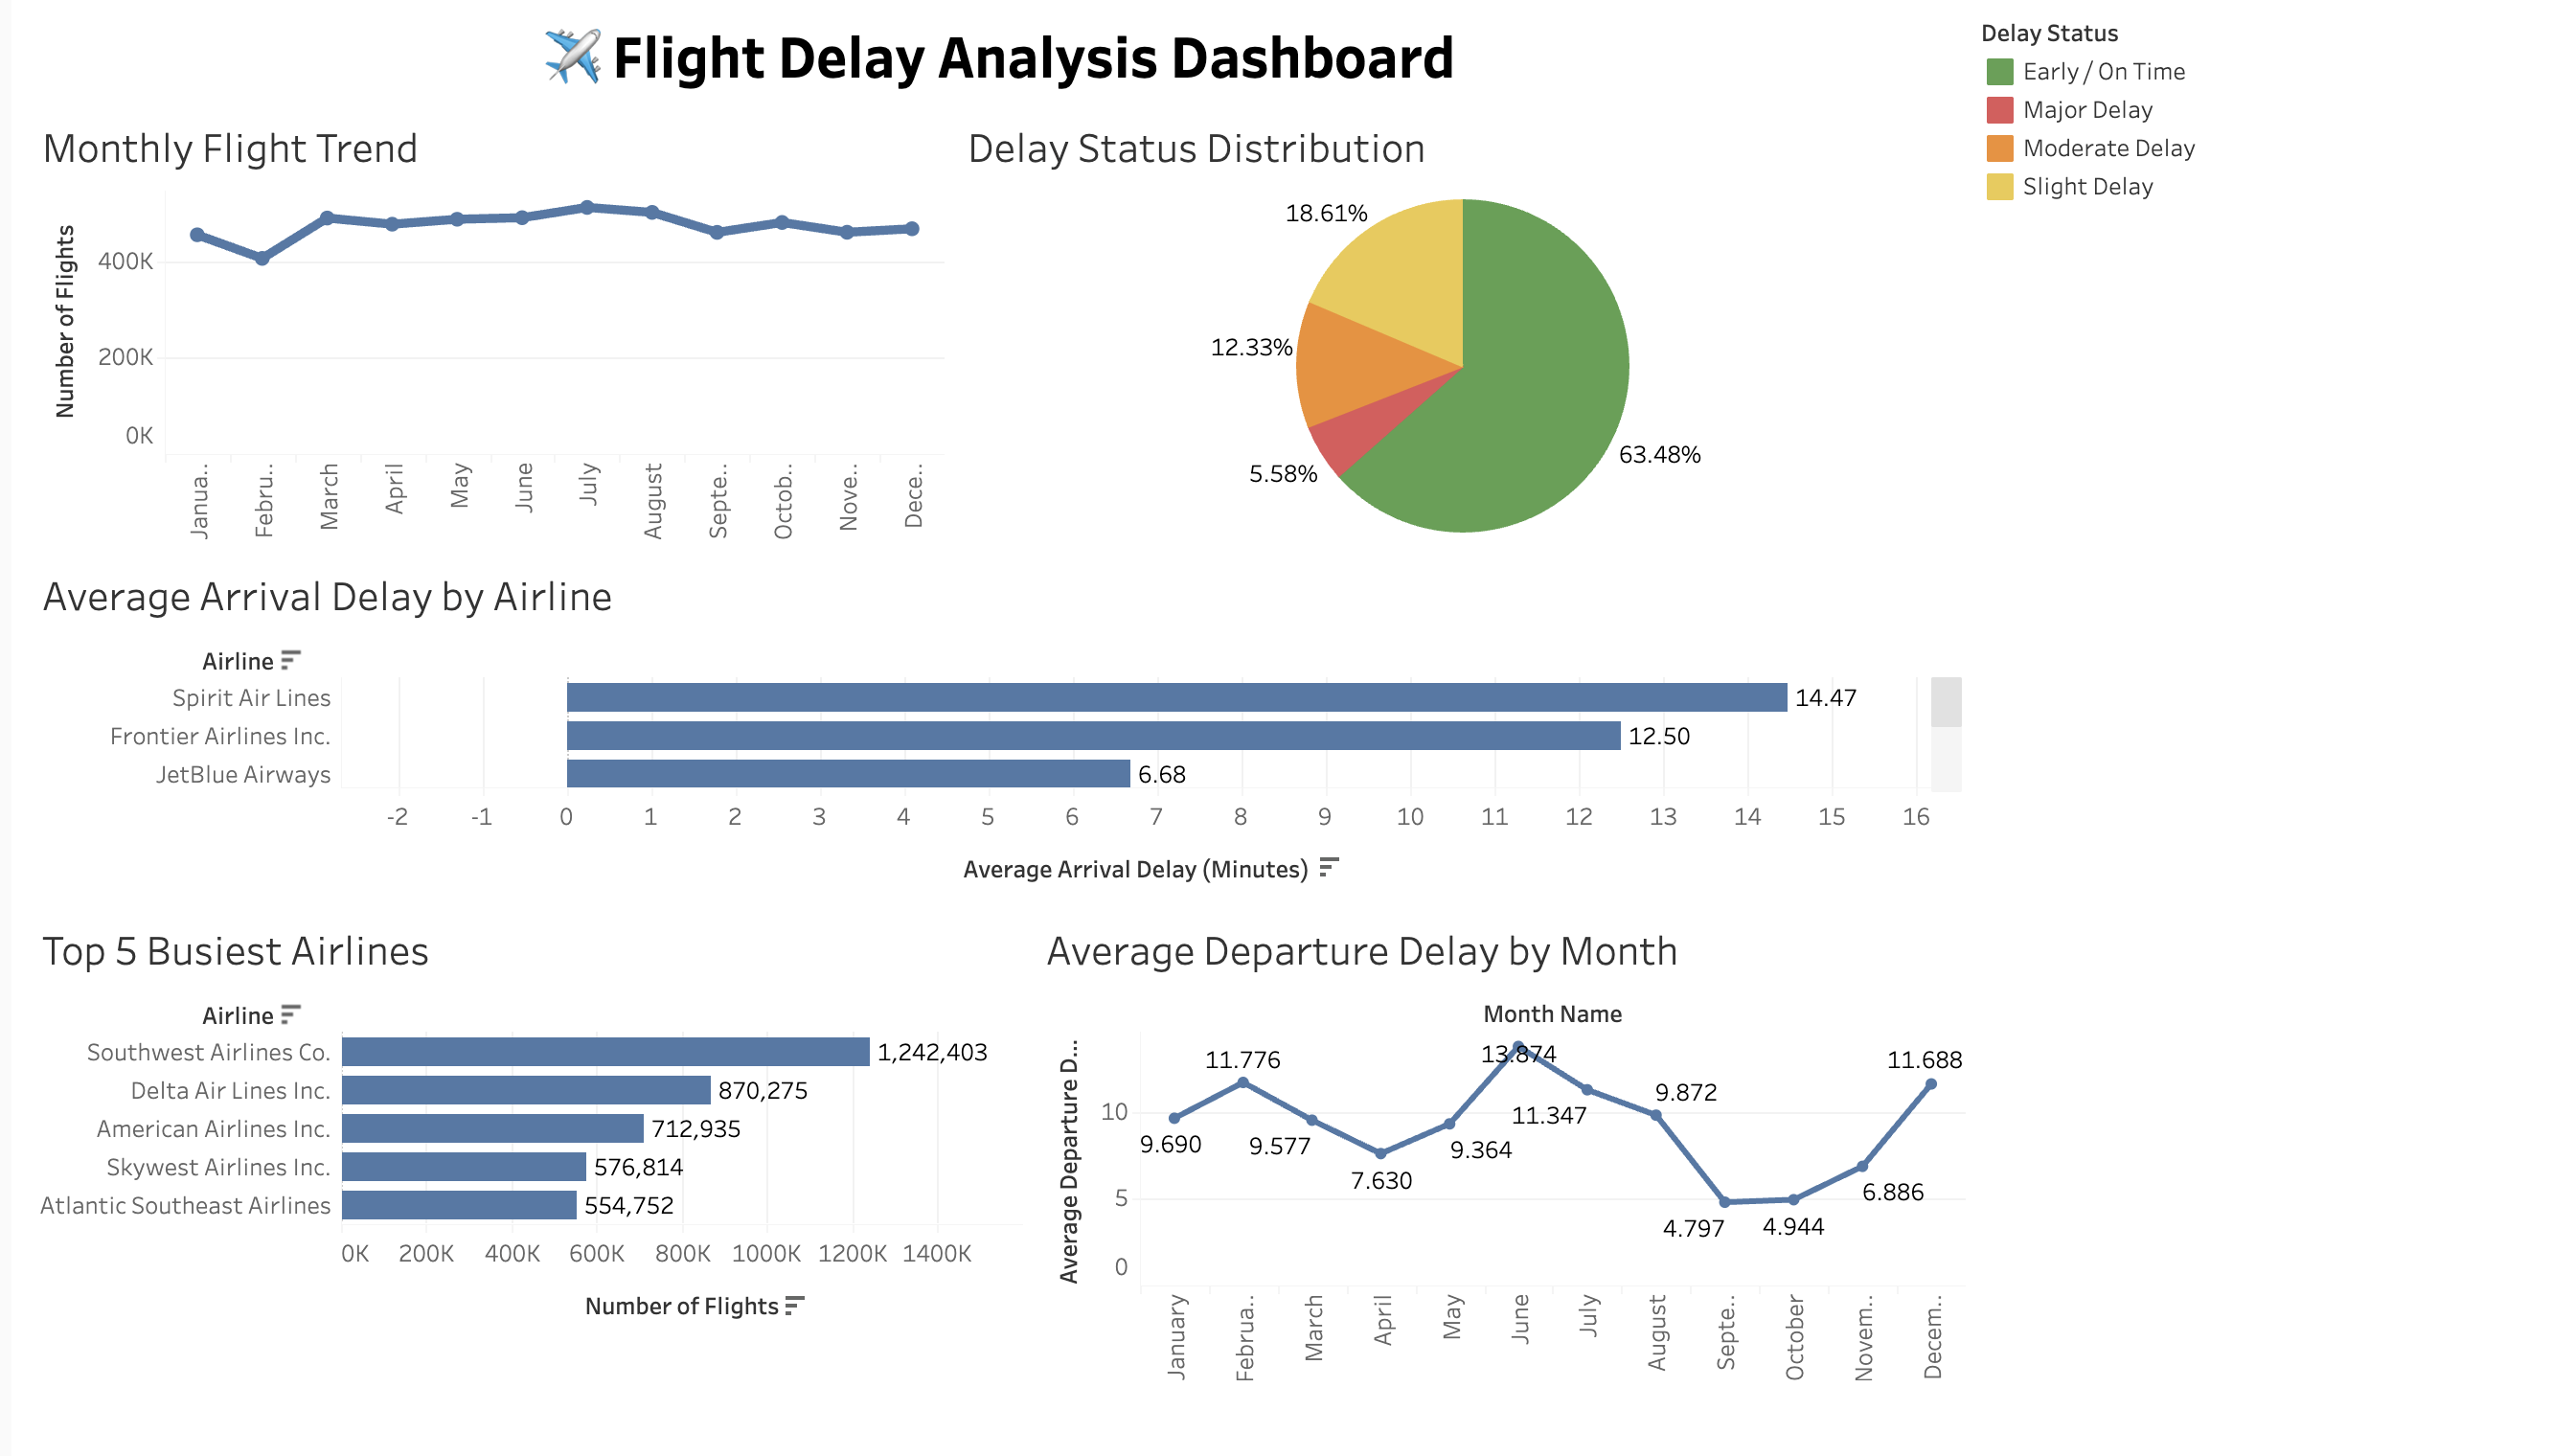

What the dashboard file says about the page in this screenshot:
{"tool":"tableau","page":{"name":"Dashboard 1","canvas":[1000,800],"ordinal":0},"visuals":[{"type":"title","box":[8,8,984,47]},{"type":"worksheet","title":"Monthly Flight Trend","mark":"Line","rows":["cleaned_flights.csv_6DAA12268A1F488CB9A3953A35A15213"],"cols":["MONTH_NAME"],"box":[8,55,483,232.4]},{"type":"worksheet","title":"Delay Status Distribution","mark":"Pie","box":[491,55,501,232.4]},{"type":"worksheet","title":"Average Arrival Delay by Airline","mark":"Bar","rows":["AIRLINE"],"cols":["ARRIVAL_DELAY"],"box":[8,287.4,984,208]},{"type":"worksheet","title":"Top 5 Busiest Airlines","mark":"Automatic","rows":["AIRLINE"],"cols":["FLIGHT_NUMBER"],"box":[8,498.9,492,261.1]},{"type":"worksheet","title":"Average Departure Delay by Month","mark":"Line","rows":["DEPARTURE_DELAY"],"cols":["MONTH_NAME"],"box":[500,498.9,492,261.1]},{"type":"text","box":[8,759.9,984,32.1]}]}

Visuals, with their boxes on the page's 1000x800 design canvas (x1, y1, x2, y2). These are canvas units, not pixel positions in the 2552x1456 screenshot, which may show the page scaled, cropped or inside an application window:
title: [x1=8, y1=8, x2=992, y2=55]
"Monthly Flight Trend" worksheet (Line marks): [x1=8, y1=55, x2=491, y2=287]
"Delay Status Distribution" worksheet (Pie marks): [x1=491, y1=55, x2=992, y2=287]
"Average Arrival Delay by Airline" worksheet (Bar marks): [x1=8, y1=287, x2=992, y2=495]
"Top 5 Busiest Airlines" worksheet: [x1=8, y1=499, x2=500, y2=760]
"Average Departure Delay by Month" worksheet (Line marks): [x1=500, y1=499, x2=992, y2=760]
text: [x1=8, y1=760, x2=992, y2=792]
